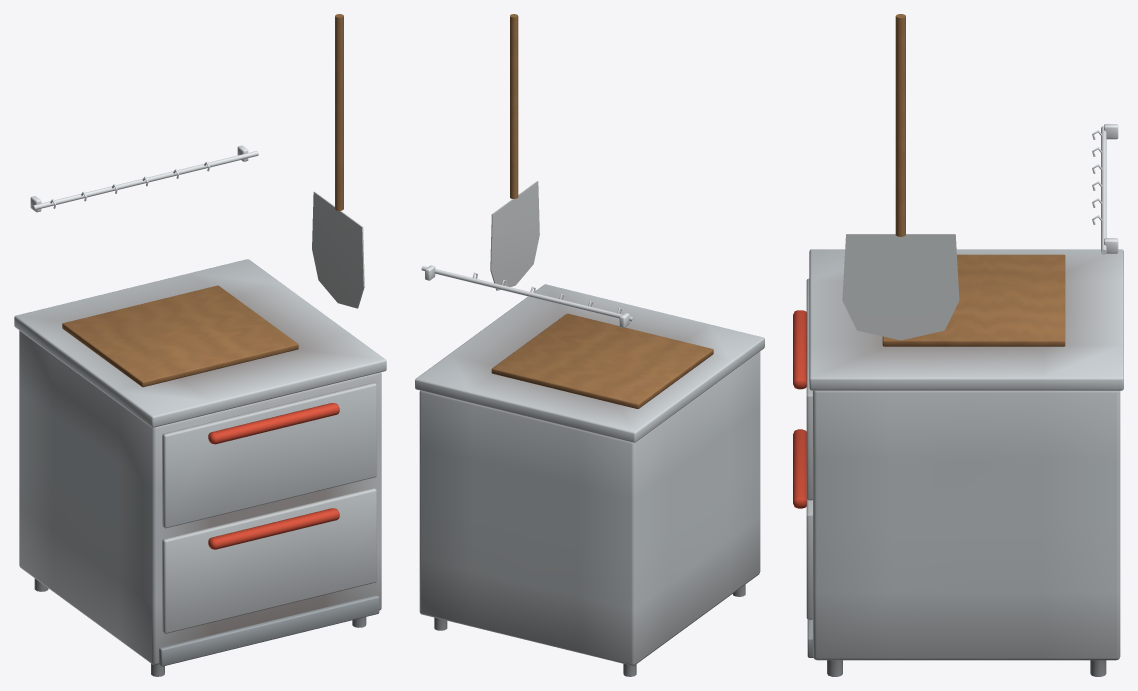
The model's file is fp-counter-side.gltf.
3 views of the same model, side by side, from view 1: azimuth 30°, elevation 25°; view 2: azimuth 150°, elevation 25°; view 3: azimuth 270°, elevation 25° (orthographic). The views are drawn at different scales.
Parts seen in each view (by area): view 1: model; view 2: model; view 3: model.
Boxes of the visible parts, x1,y1,x2,y2 form: model: (14,14,386,676); model: (415,14,764,676); model: (793,14,1123,676).
Size of the model in its own units: 0.84 by 2 by 0.905.
Materials: 6 (1 with a texture image).
